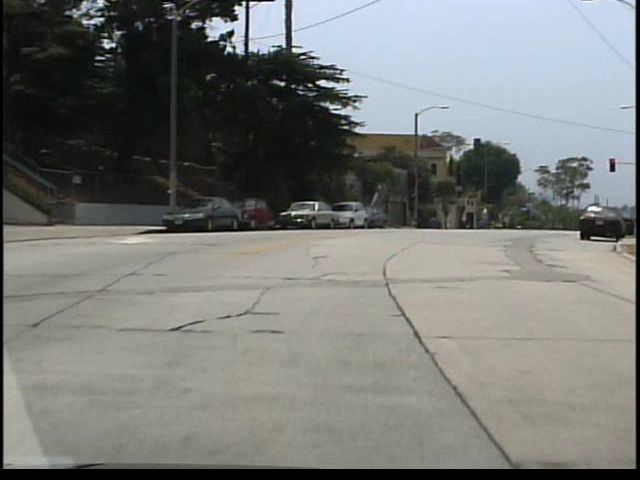person: (485, 206, 492, 230)
